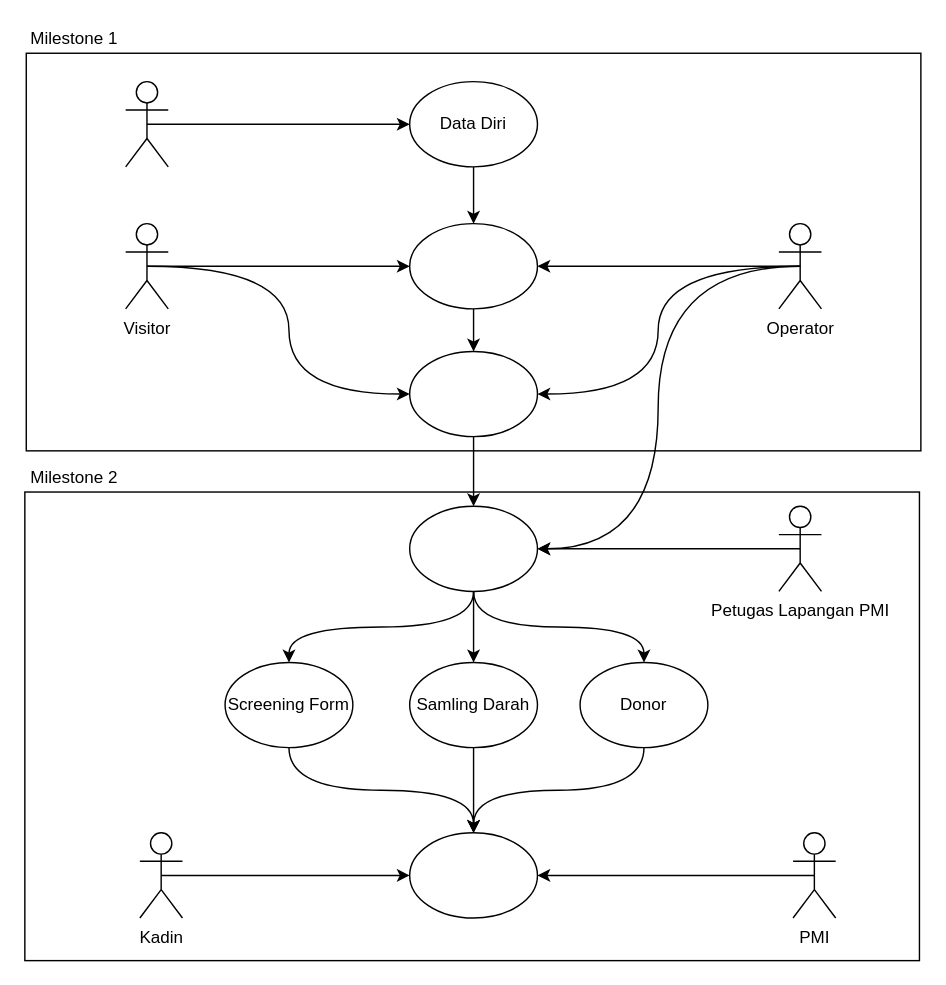
Image size: 946x985. Some labels were removed from this diagram. Each missing label, with the centre of its shape:
Dashboard System: point (472, 874)
List Penyintas: point (472, 265)
Log Activity Pendonor: point (472, 548)
Penyintas Covid: point (146, 123)
Permintaan Donor: point (472, 393)
